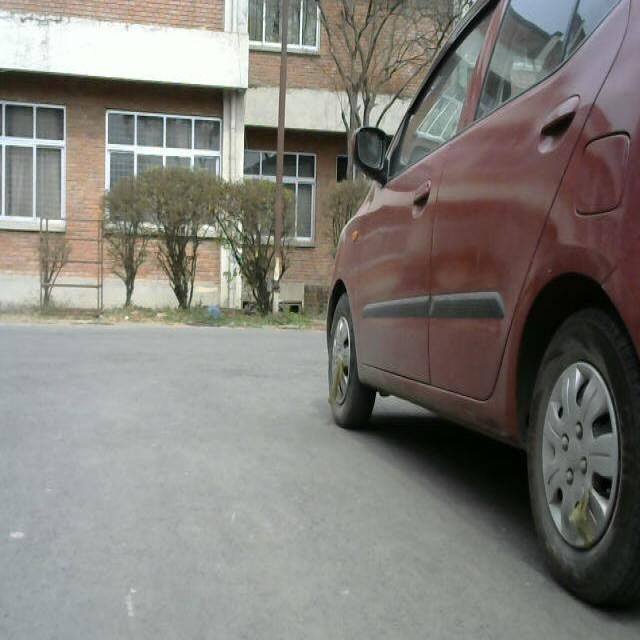Buildings: (2, 2, 269, 166)
Car: (327, 0, 637, 571)
Road: (1, 313, 606, 640)
trees: (84, 152, 239, 328), (160, 172, 288, 312)
